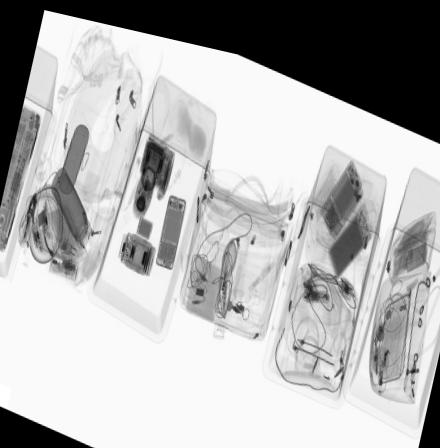Powerbank: (318, 142, 361, 224)
